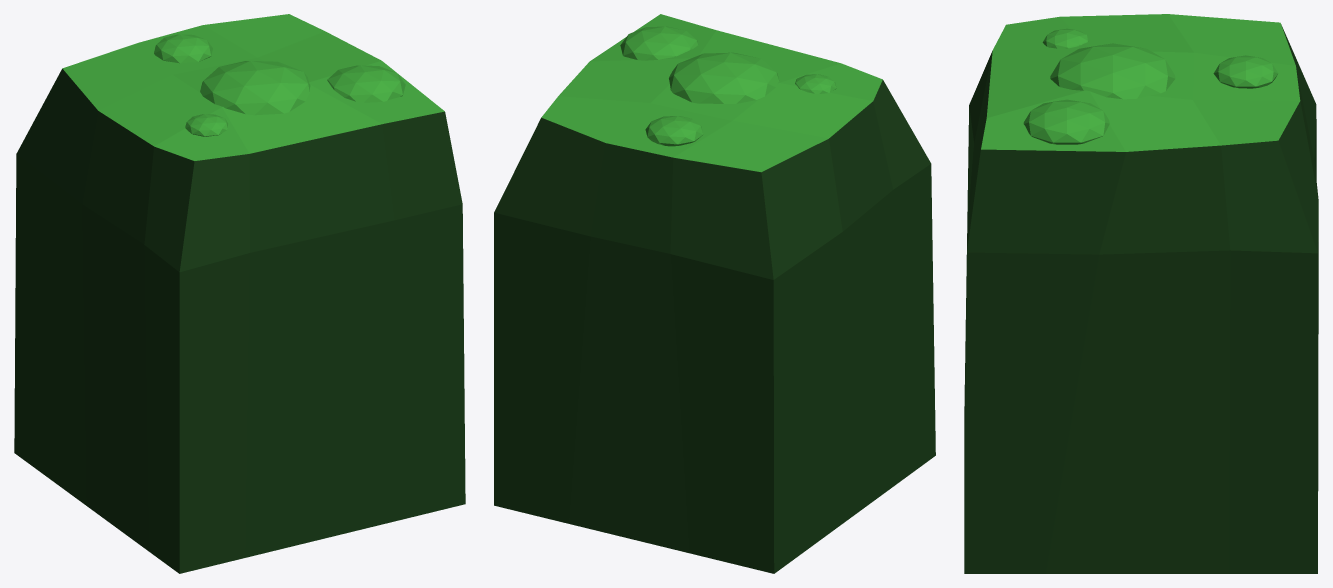
Rendered from TileWall.fbx.
3 views of the same model, side by side, from view 1: azimuth 30°, elevation 25°; view 2: azimuth 150°, elevation 25°; view 3: azimuth 270°, elevation 25° (orthographic). The views are drawn at different scales.
Visible parts, largest first — view 1: WallTile; view 2: WallTile; view 3: WallTile.
Part boxes in pixels (<box>): WallTile: <box>14,14,465,573</box>; WallTile: <box>494,14,935,573</box>; WallTile: <box>964,14,1318,573</box>.
Size of the model in its own units: 101 by 139 by 100.
